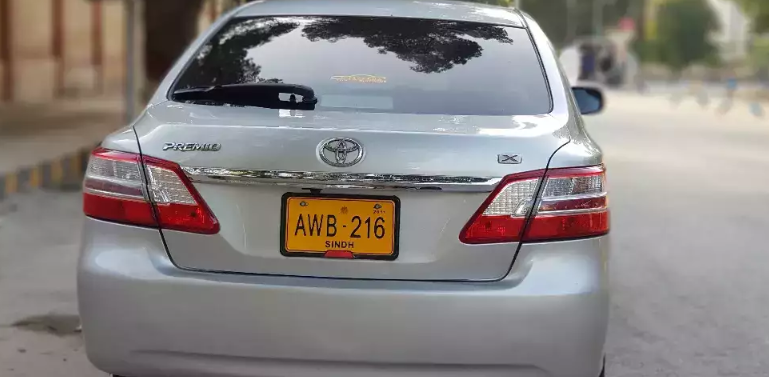license plate: (281, 194, 396, 256)
